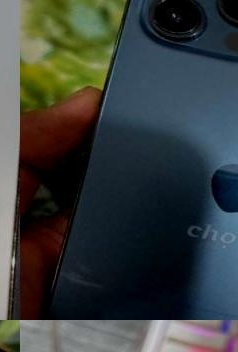scratch: (35, 239, 238, 320)
